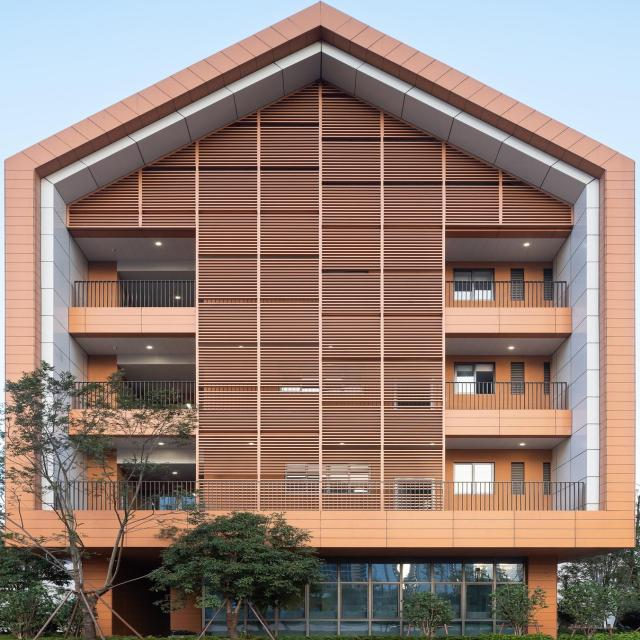railing: (193, 480, 581, 509), (55, 481, 195, 510), (442, 279, 566, 307), (443, 381, 567, 409), (72, 381, 195, 408), (72, 280, 192, 307)
window: (209, 563, 523, 635), (457, 463, 497, 482), (458, 363, 497, 382), (455, 272, 496, 280), (511, 362, 525, 383), (510, 463, 524, 479), (511, 268, 526, 280)
